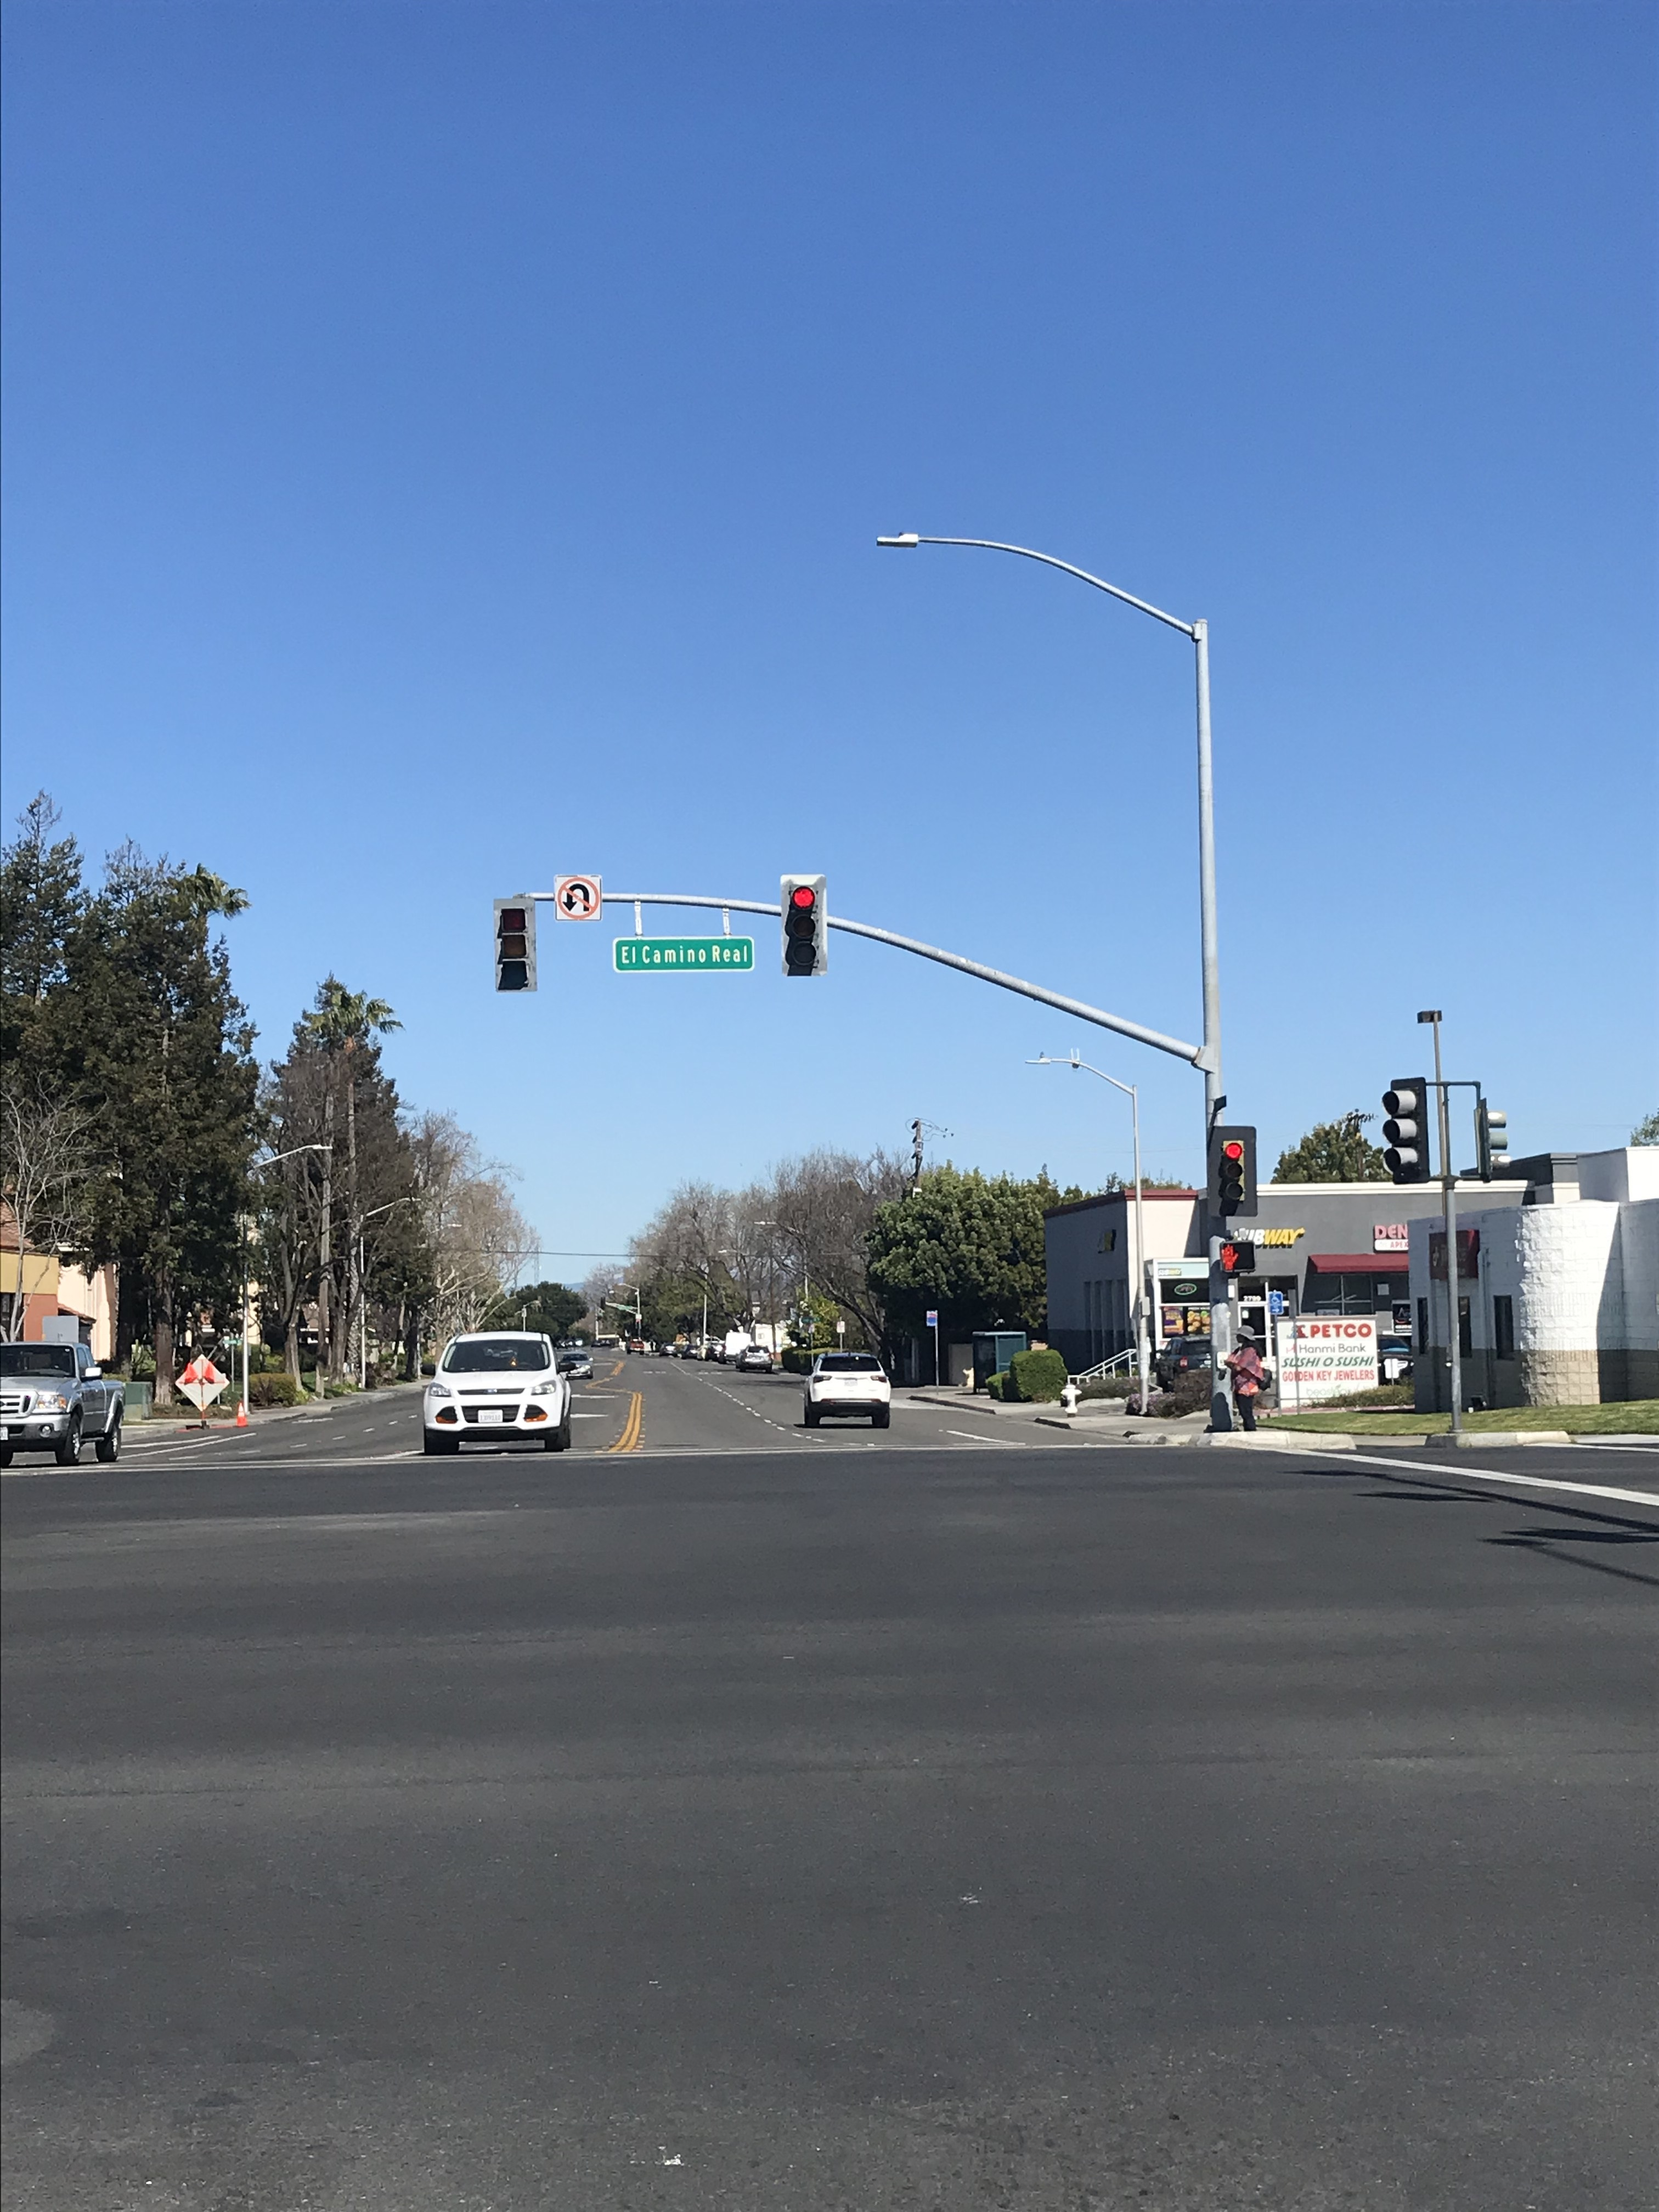red_light: (788, 874, 826, 968), (1215, 1127, 1255, 1214)
